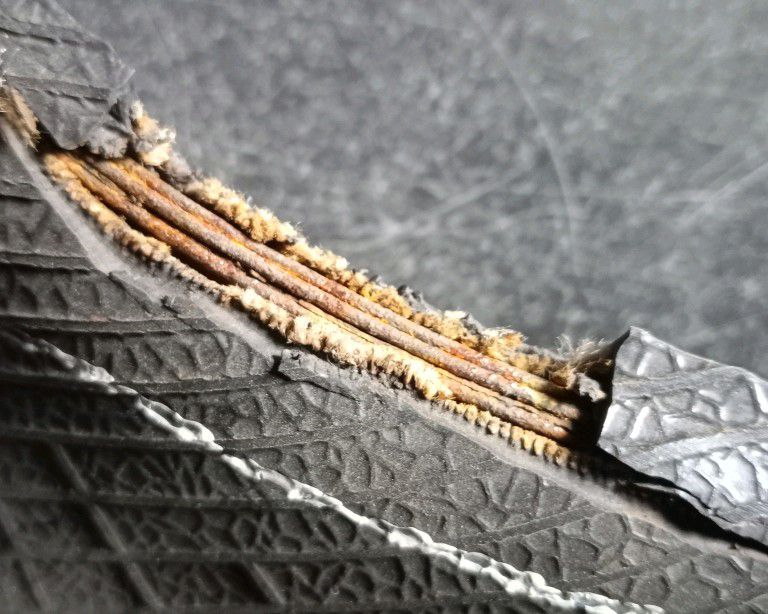bead_damage: (0, 72, 723, 539)
